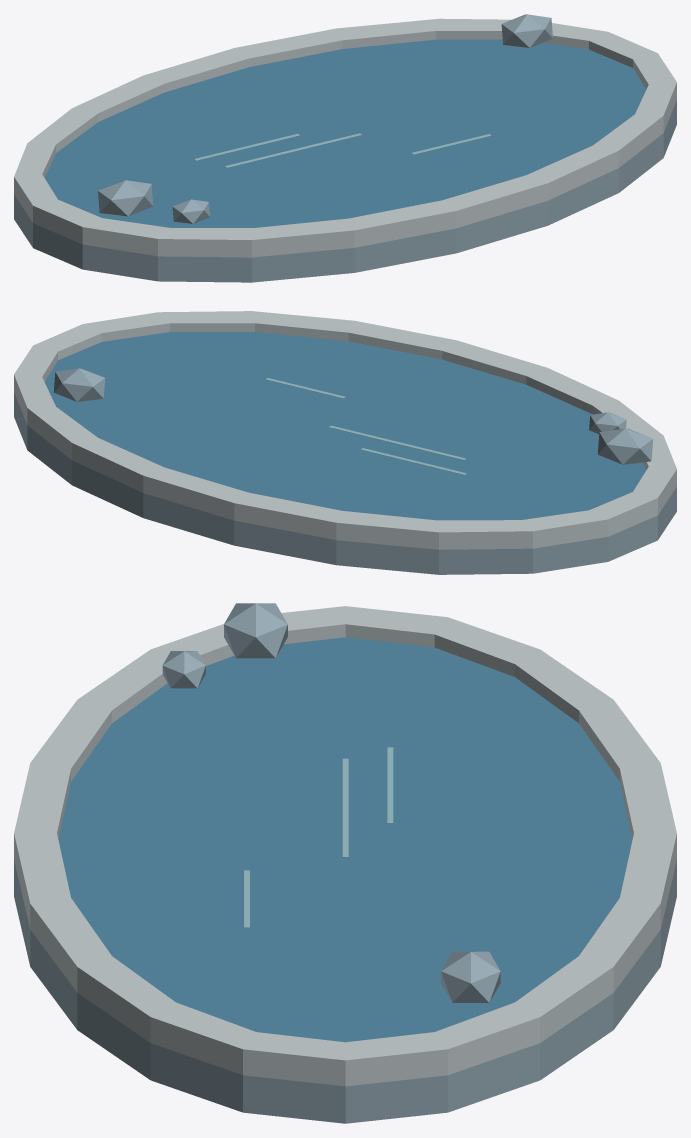
The model's file is campus_pond_v01.glb.
3 renders of one model, top to bottom at view 1: azimuth 30°, elevation 25°; view 2: azimuth 150°, elevation 25°; view 3: azimuth 270°, elevation 25°, orthographic. The views are drawn at different scales.
Parts seen in each view (by area): view 1: campus_pond; view 2: campus_pond; view 3: campus_pond.
Part boxes in pixels (x1,y1,x2,y2): campus_pond: (14,14,676,282); campus_pond: (14,311,676,574); campus_pond: (14,603,676,1123).
Size of the model in its own units: 6 by 0.686 by 3.7.
